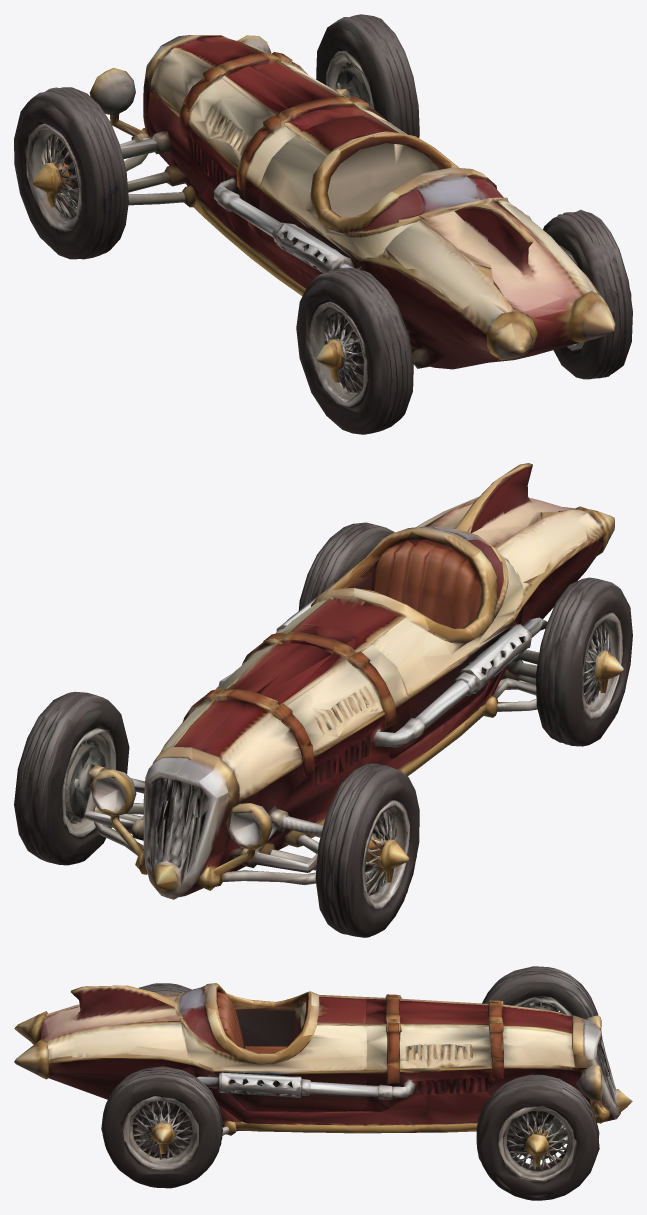
File: Car.fbx
3 views of the same model, one above another, from view 1: azimuth 30°, elevation 25°; view 2: azimuth 150°, elevation 25°; view 3: azimuth 270°, elevation 25° (orthographic). The views are drawn at different scales.
Visible parts, largest first — view 1: LOD0; view 2: LOD0; view 3: LOD0.
Boxes of the visible parts, x1,y1,x2,y2 form: LOD0: (14, 14, 632, 434); LOD0: (14, 463, 632, 937); LOD0: (14, 966, 632, 1200).
Size of what is drawn, in the model's own units: 2.11 by 1.13 by 4.
